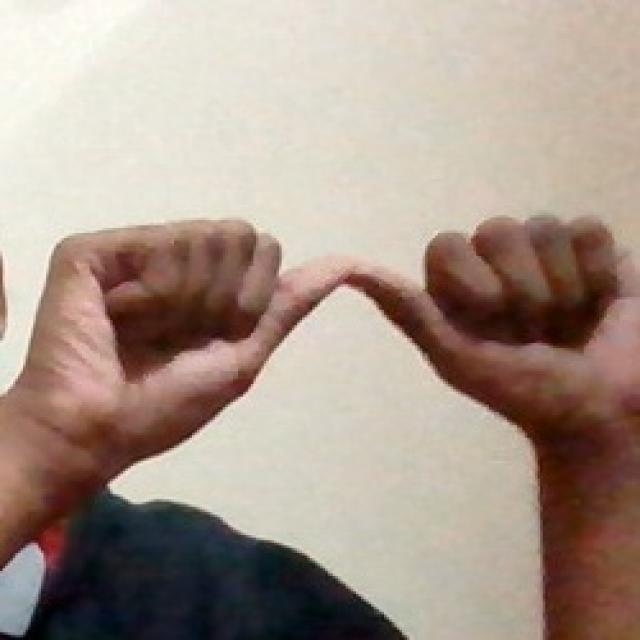Alphabet-A: (32, 203, 638, 470)
